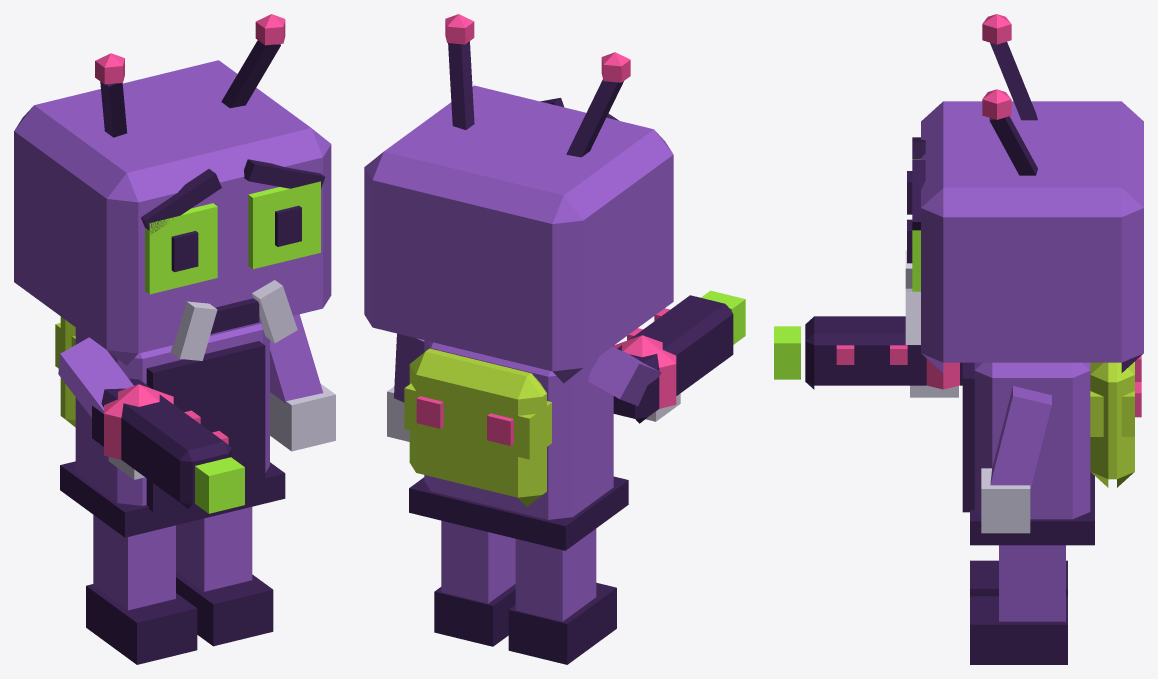
Rendered from gunner_r11.glb.
3 renders of one model, left to right at view 1: azimuth 30°, elevation 25°; view 2: azimuth 150°, elevation 25°; view 3: azimuth 270°, elevation 25°, orthographic. The views are drawn at different scales.
Parts seen in each view (by area): view 1: gunner_r11_mesh; view 2: gunner_r11_mesh; view 3: gunner_r11_mesh.
Part boxes in pixels (x1,y1,x2,y2): gunner_r11_mesh: [14, 14, 335, 664]; gunner_r11_mesh: [364, 14, 745, 664]; gunner_r11_mesh: [774, 14, 1143, 664].
Size of the model in its own units: 0.7047 by 1.6 by 0.9222.
Materials: 1 (1 with a texture image).
